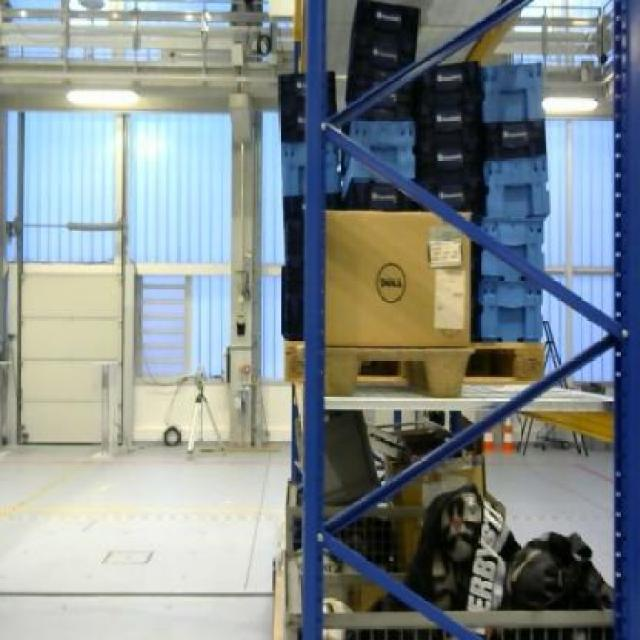box: (324, 208, 470, 344)
